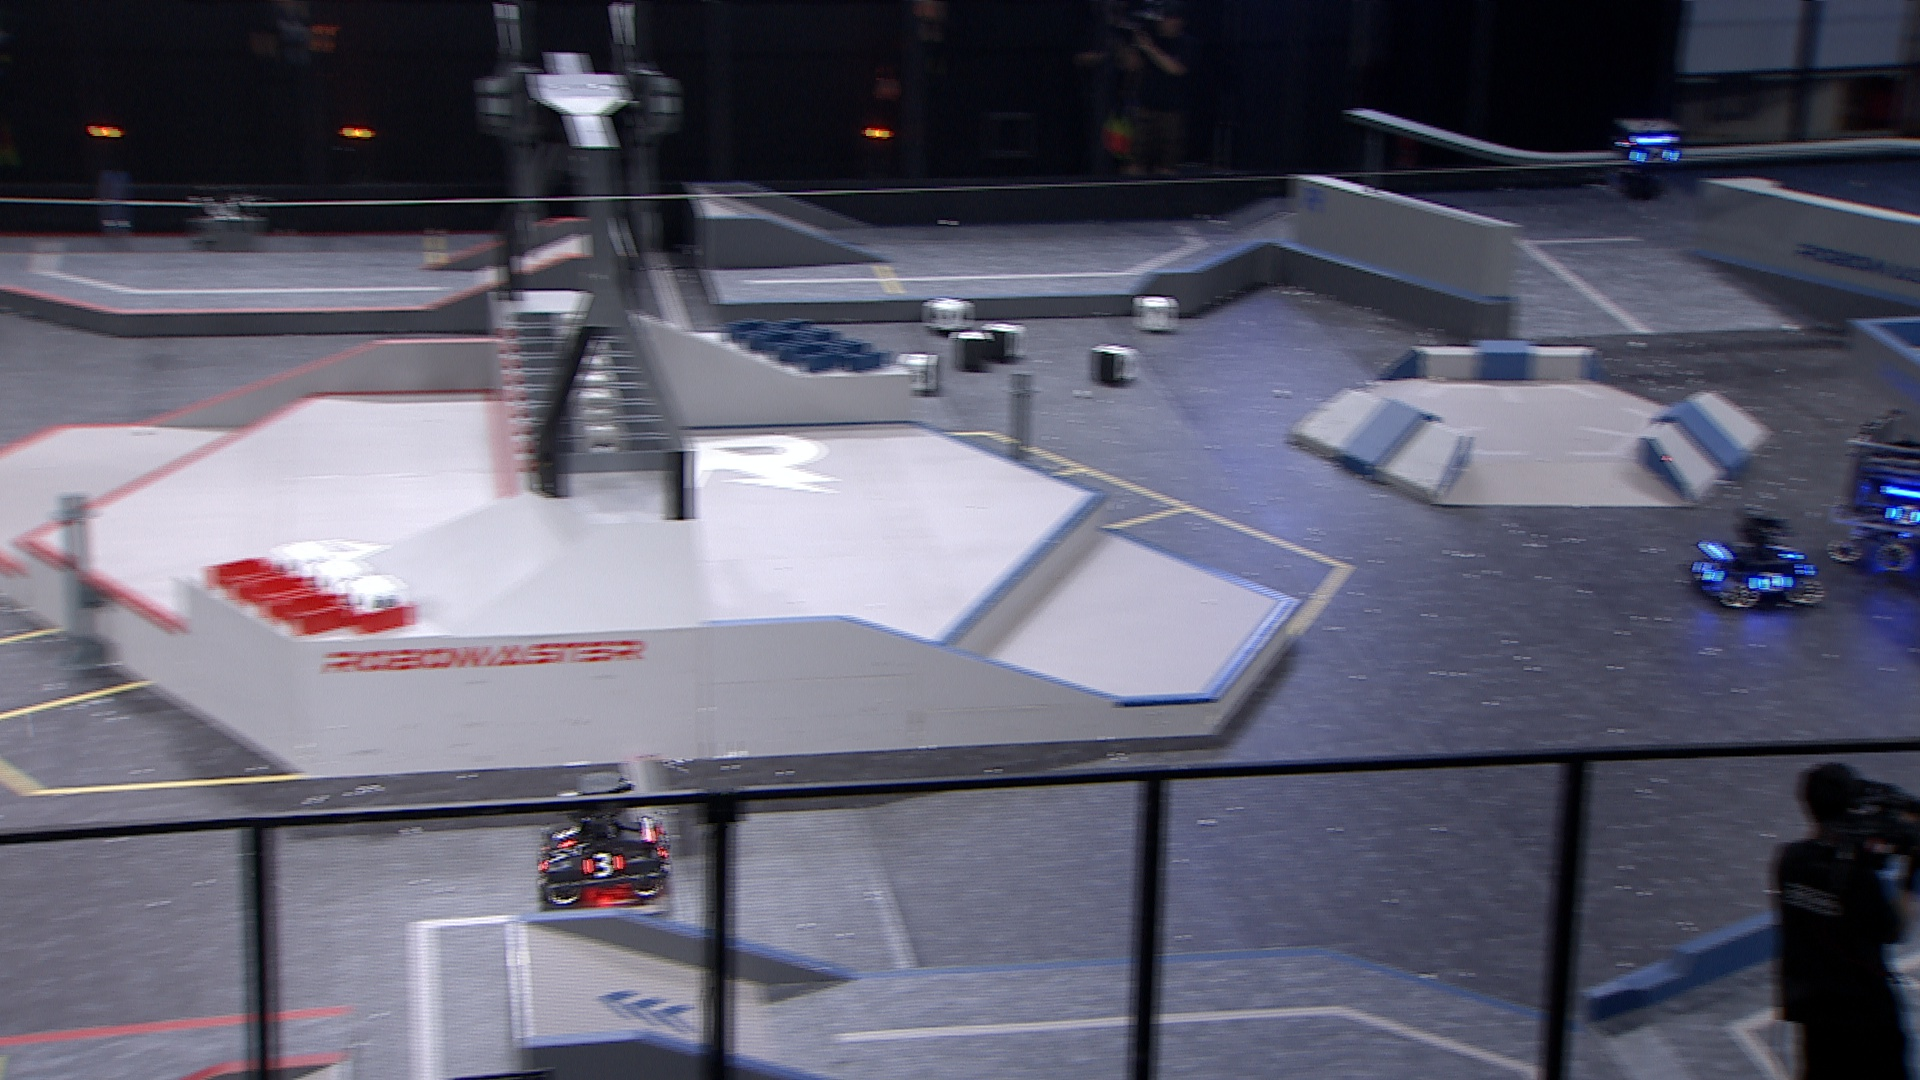armor: (579, 849, 626, 884), (1743, 568, 1797, 591), (1626, 146, 1681, 166), (547, 818, 580, 851), (1692, 553, 1724, 584), (1884, 500, 1920, 527), (1764, 537, 1803, 560)
car: (533, 767, 674, 907), (1821, 406, 1920, 574), (1681, 506, 1821, 611)
watcher: (1609, 115, 1688, 204)
